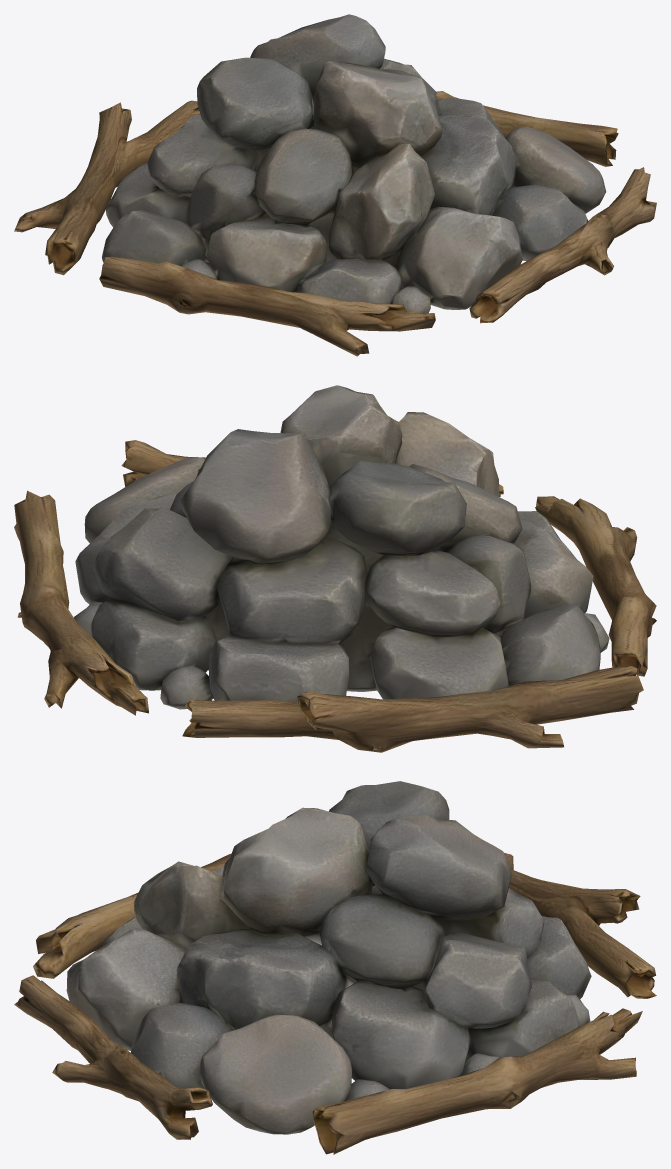
The model's file is Stone Pile.fbx.
3 renders of one model, top to bottom at view 1: azimuth 30°, elevation 25°; view 2: azimuth 150°, elevation 25°; view 3: azimuth 270°, elevation 25°, orthographic. The views are drawn at different scales.
Visible parts, largest first — view 1: tripo_node_68b79e41; view 2: tripo_node_68b79e41; view 3: tripo_node_68b79e41.
Part boxes in pixels (box(x1,y1,x2,y2)): tripo_node_68b79e41: box(14, 14, 656, 356); tripo_node_68b79e41: box(14, 385, 656, 752); tripo_node_68b79e41: box(14, 781, 656, 1154).
Size of the model in its own units: 1 by 0.3074 by 0.8889.
